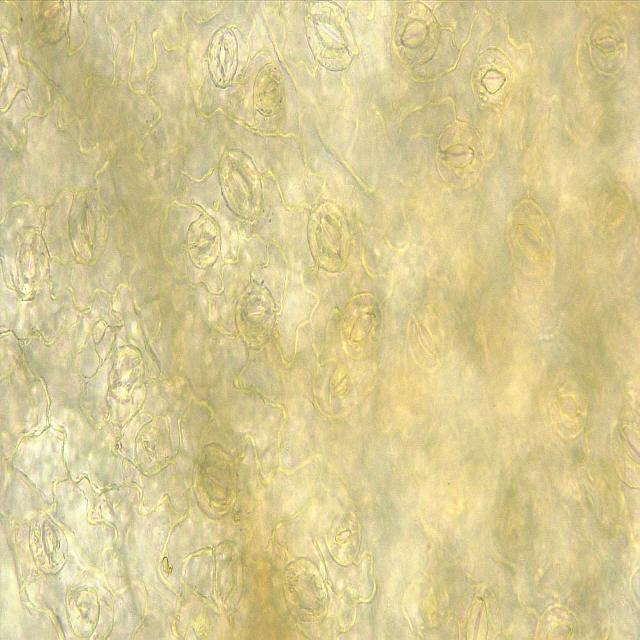Stomata: (504, 196, 557, 281), (304, 0, 361, 73), (192, 441, 239, 523), (217, 145, 264, 222), (434, 120, 486, 189), (8, 224, 53, 302), (307, 198, 352, 276), (67, 186, 110, 266), (393, 0, 442, 67), (282, 555, 329, 624), (339, 293, 383, 361), (469, 47, 515, 112), (235, 280, 277, 350), (548, 374, 590, 443), (206, 539, 245, 612), (454, 580, 501, 640), (27, 511, 69, 577), (609, 404, 640, 492), (405, 303, 445, 370), (588, 16, 629, 76), (108, 344, 146, 404), (325, 507, 362, 568), (187, 211, 222, 270), (252, 58, 286, 118), (208, 26, 240, 89), (29, 0, 73, 45), (534, 602, 580, 640)
